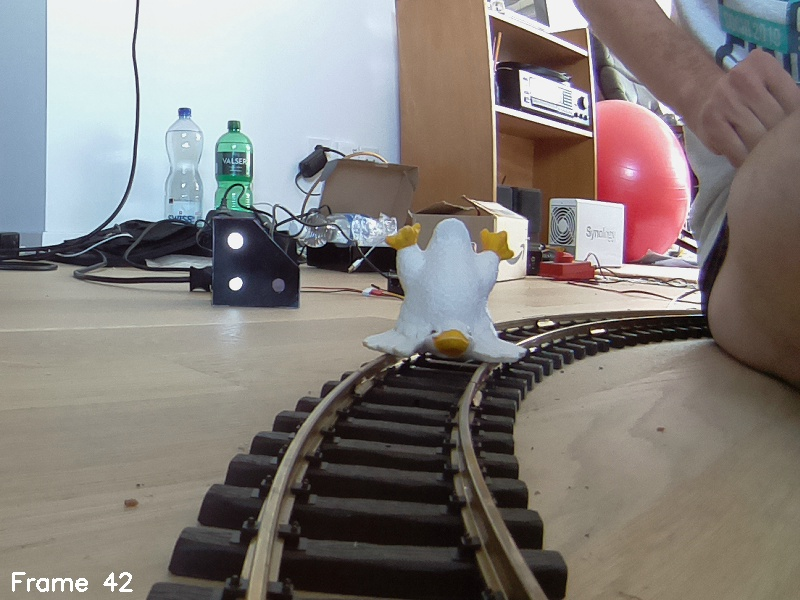Ente: (360, 219, 533, 374)
Fahrt: (213, 218, 301, 307)
